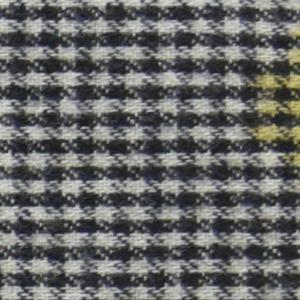Stain: (245, 32, 300, 179)
